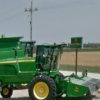Tractor: (8, 29, 100, 100)
